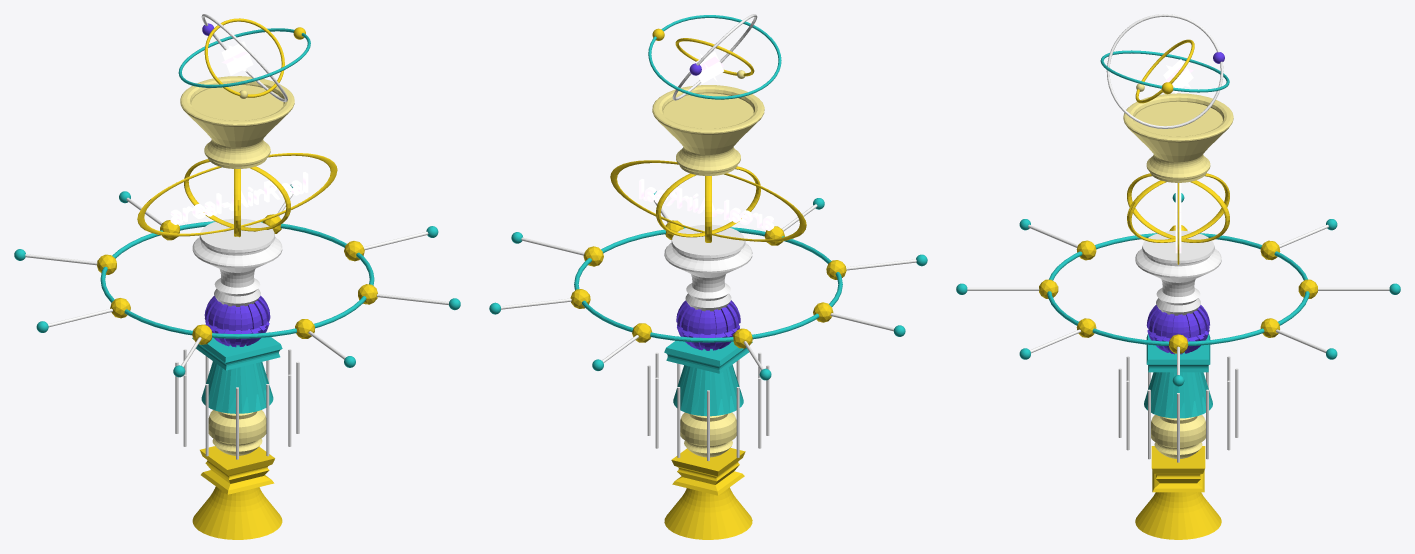
The model's file is areal-AirReal_Ferris_wheel.fbx.
3 renders of one model, left to right at view 1: azimuth 30°, elevation 25°; view 2: azimuth 150°, elevation 25°; view 3: azimuth 270°, elevation 25°, orthographic. The views are drawn at different scales.
Parts seen in each view (by area): view 1: Cylinder.003, Cylinder.002, Cylinder.001, Cylinder, Torus, Torus.018, Sphere, Cylinder.010, Sphere.001, Cube.001, Text, Torus.021 (+7 smaller); view 2: Cylinder.003, Cylinder.002, Cylinder.001, Cylinder, Torus, Torus.018, Cylinder.010, Sphere, Sphere.001, Text, Cube.001, Torus.021 (+6 smaller); view 3: Cylinder.003, Cylinder.002, Cylinder.001, Cylinder, Torus, Torus.018, Cylinder.010, Sphere, Sphere.001, Torus.021, Cube.001, Torus.005 (+6 smaller).
Part boxes in pixels (left/top/right/bottom): Cylinder.003: left=180, top=76, right=294, bottom=168; Cylinder.002: left=192, top=446, right=282, bottom=539; Cylinder.001: left=192, top=218, right=282, bottom=306; Cylinder: left=201, top=344, right=273, bottom=413; Torus: left=100, top=221, right=374, bottom=338; Torus.018: left=97, top=214, right=377, bottom=344; Sphere: left=204, top=295, right=270, bottom=347; Cylinder.010: left=175, top=349, right=299, bottom=459; Sphere.001: left=208, top=410, right=266, bottom=455; Cube.001: left=192, top=337, right=282, bottom=370; Text: left=170, top=172, right=308, bottom=224; Torus.021: left=25, top=193, right=448, bottom=367; Cylinder.003: left=652, top=85, right=764, bottom=175; Cylinder.002: left=664, top=448, right=752, bottom=539; Cylinder.001: left=664, top=224, right=752, bottom=311; Cylinder: left=673, top=348, right=743, bottom=416; Torus: left=574, top=227, right=842, bottom=342; Torus.018: left=570, top=220, right=846, bottom=348; Cylinder.010: left=647, top=352, right=769, bottom=461; Sphere: left=676, top=300, right=740, bottom=350; Sphere.001: left=680, top=412, right=736, bottom=457; Text: left=639, top=179, right=774, bottom=230; Cube.001: left=664, top=341, right=752, bottom=373; Torus.021: left=500, top=200, right=916, bottom=370; Cylinder.003: left=1123, top=93, right=1233, bottom=182; Cylinder.002: left=1135, top=446, right=1221, bottom=539; Cylinder.001: left=1135, top=230, right=1221, bottom=315; Cylinder: left=1144, top=352, right=1212, bottom=418; Torus: left=1047, top=233, right=1309, bottom=345; Torus.018: left=1039, top=225, right=1317, bottom=353; Cylinder.010: left=1118, top=356, right=1238, bottom=462; Sphere: left=1146, top=305, right=1209, bottom=354; Sphere.001: left=1151, top=415, right=1205, bottom=458; Torus.021: left=967, top=224, right=1389, bottom=374; Cube.001: left=1146, top=334, right=1210, bottom=372; Torus.005: left=1106, top=14, right=1223, bottom=128.
Size of the model in its own units: 1540 by 1887 by 1540.
